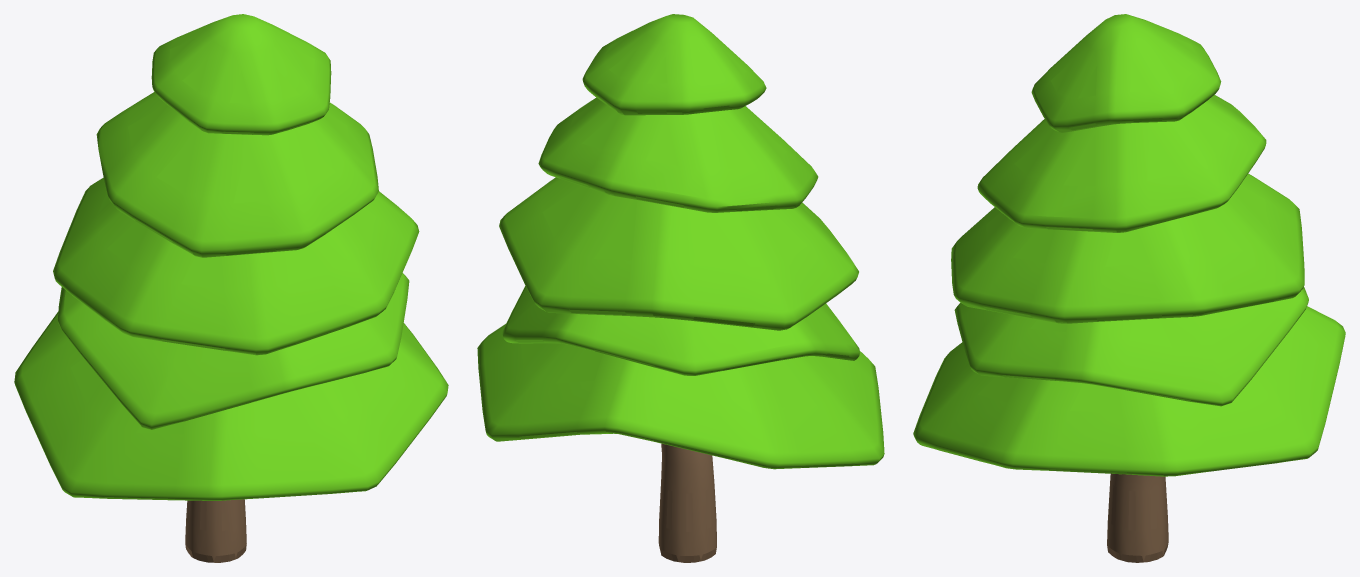
The model's file is Tree04.fbx.
3 renders of one model, left to right at view 1: azimuth 30°, elevation 25°; view 2: azimuth 150°, elevation 25°; view 3: azimuth 270°, elevation 25°, orthographic. The views are drawn at different scales.
Visible parts, largest first — view 1: Tree_04.001, Tree_04; view 2: Tree_04.001, Tree_04; view 3: Tree_04.001, Tree_04.
Part boxes in pixels (x1=…): Tree_04.001: x1=14, y1=14, x2=448, y2=500; Tree_04: x1=185, y1=499, x2=246, y2=562; Tree_04.001: x1=477, y1=14, x2=884, y2=469; Tree_04: x1=658, y1=443, x2=716, y2=562; Tree_04.001: x1=913, y1=14, x2=1345, y2=476; Tree_04: x1=1107, y1=473, x2=1168, y2=562.
Size of the model in its own units: 250 by 345 by 249.
